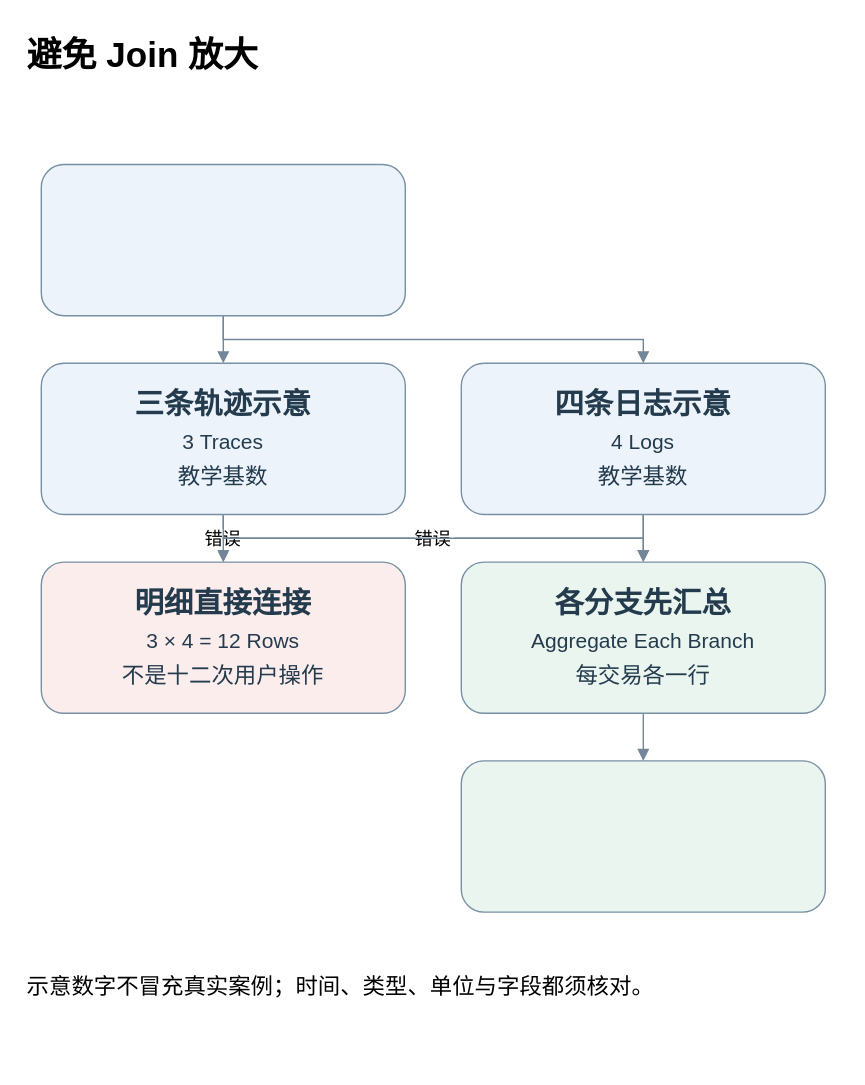
The diagram is 865 pixels wide and 1085 high, and some of its shapes have lost their labels. Here are the shapes that lost their labels. From the top down, the box of each, then its label:
(40, 163, 405, 316): 一笔交易 One Transaction 主干唯一键
(460, 760, 825, 912): 回连交易主干 Join at Tx Grain Value / Fee 不重复
